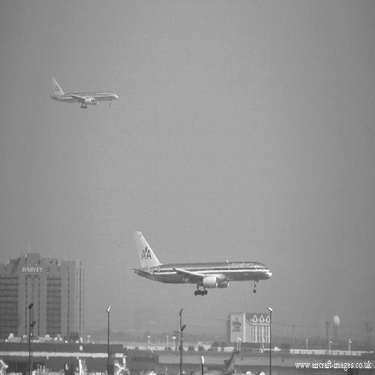airplane: (112, 218, 289, 306), (19, 71, 130, 127)
